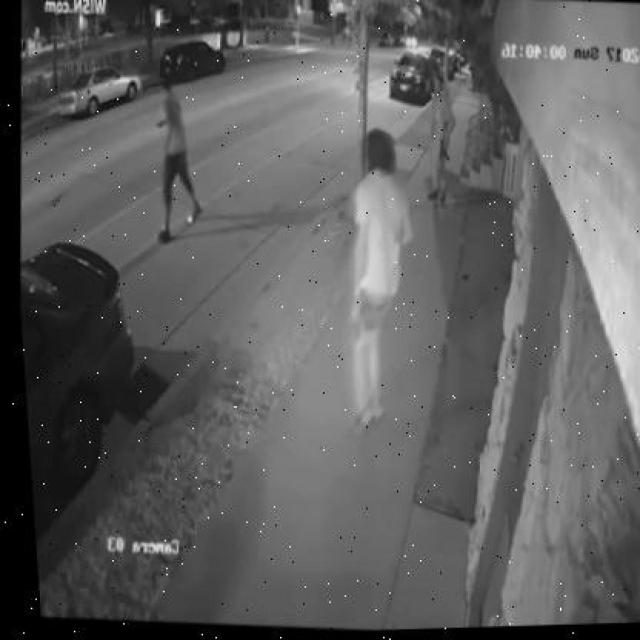weapon: (438, 120, 451, 171)
